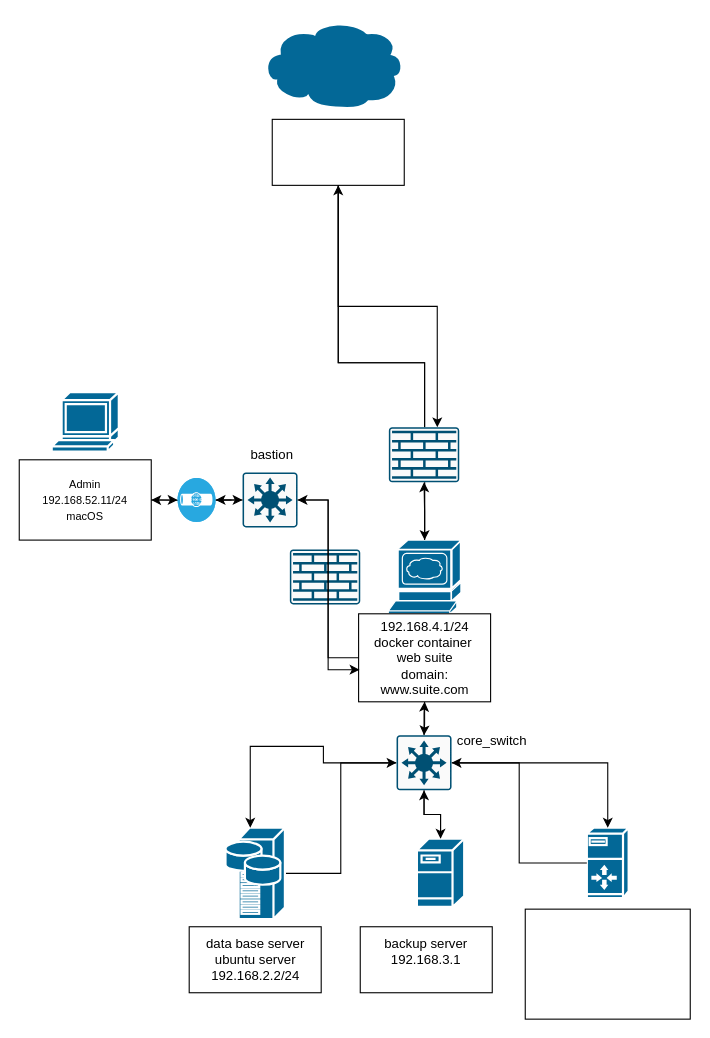
Some shapes in this 710 by 1038 pixel diagram are drawn without their labels. The centre of each missing label's shape, as x and y in pixels:
"192.168.1.1 ubuntu server observer siem grafana suricata" belongs at (607,963).
"Cloude | Ethernet" belongs at (337,151).
